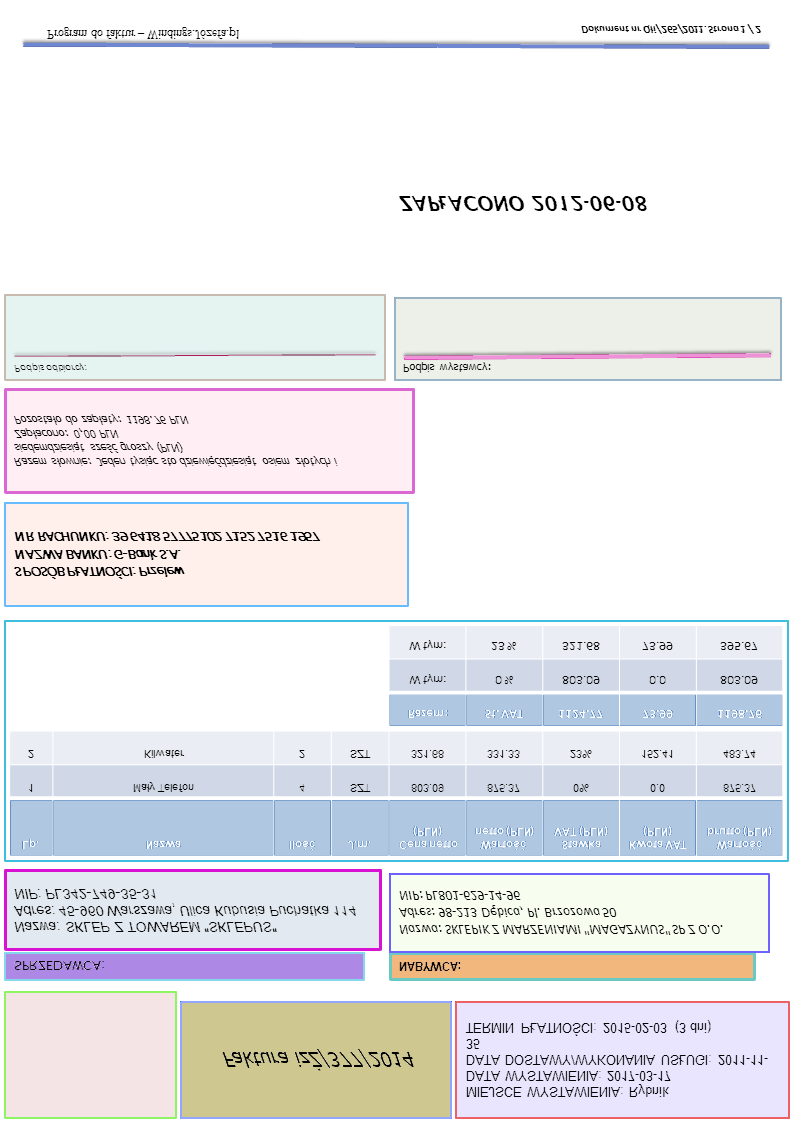Table: (8, 729, 784, 859), (386, 624, 785, 729)
TextBox: (463, 1016, 772, 1103), (12, 412, 344, 471), (11, 883, 358, 937), (11, 525, 322, 583), (396, 886, 726, 940), (397, 191, 648, 217), (217, 1046, 418, 1073), (44, 24, 240, 46), (578, 21, 764, 40), (9, 958, 106, 976), (399, 359, 493, 377), (11, 360, 88, 379), (395, 957, 462, 978)
